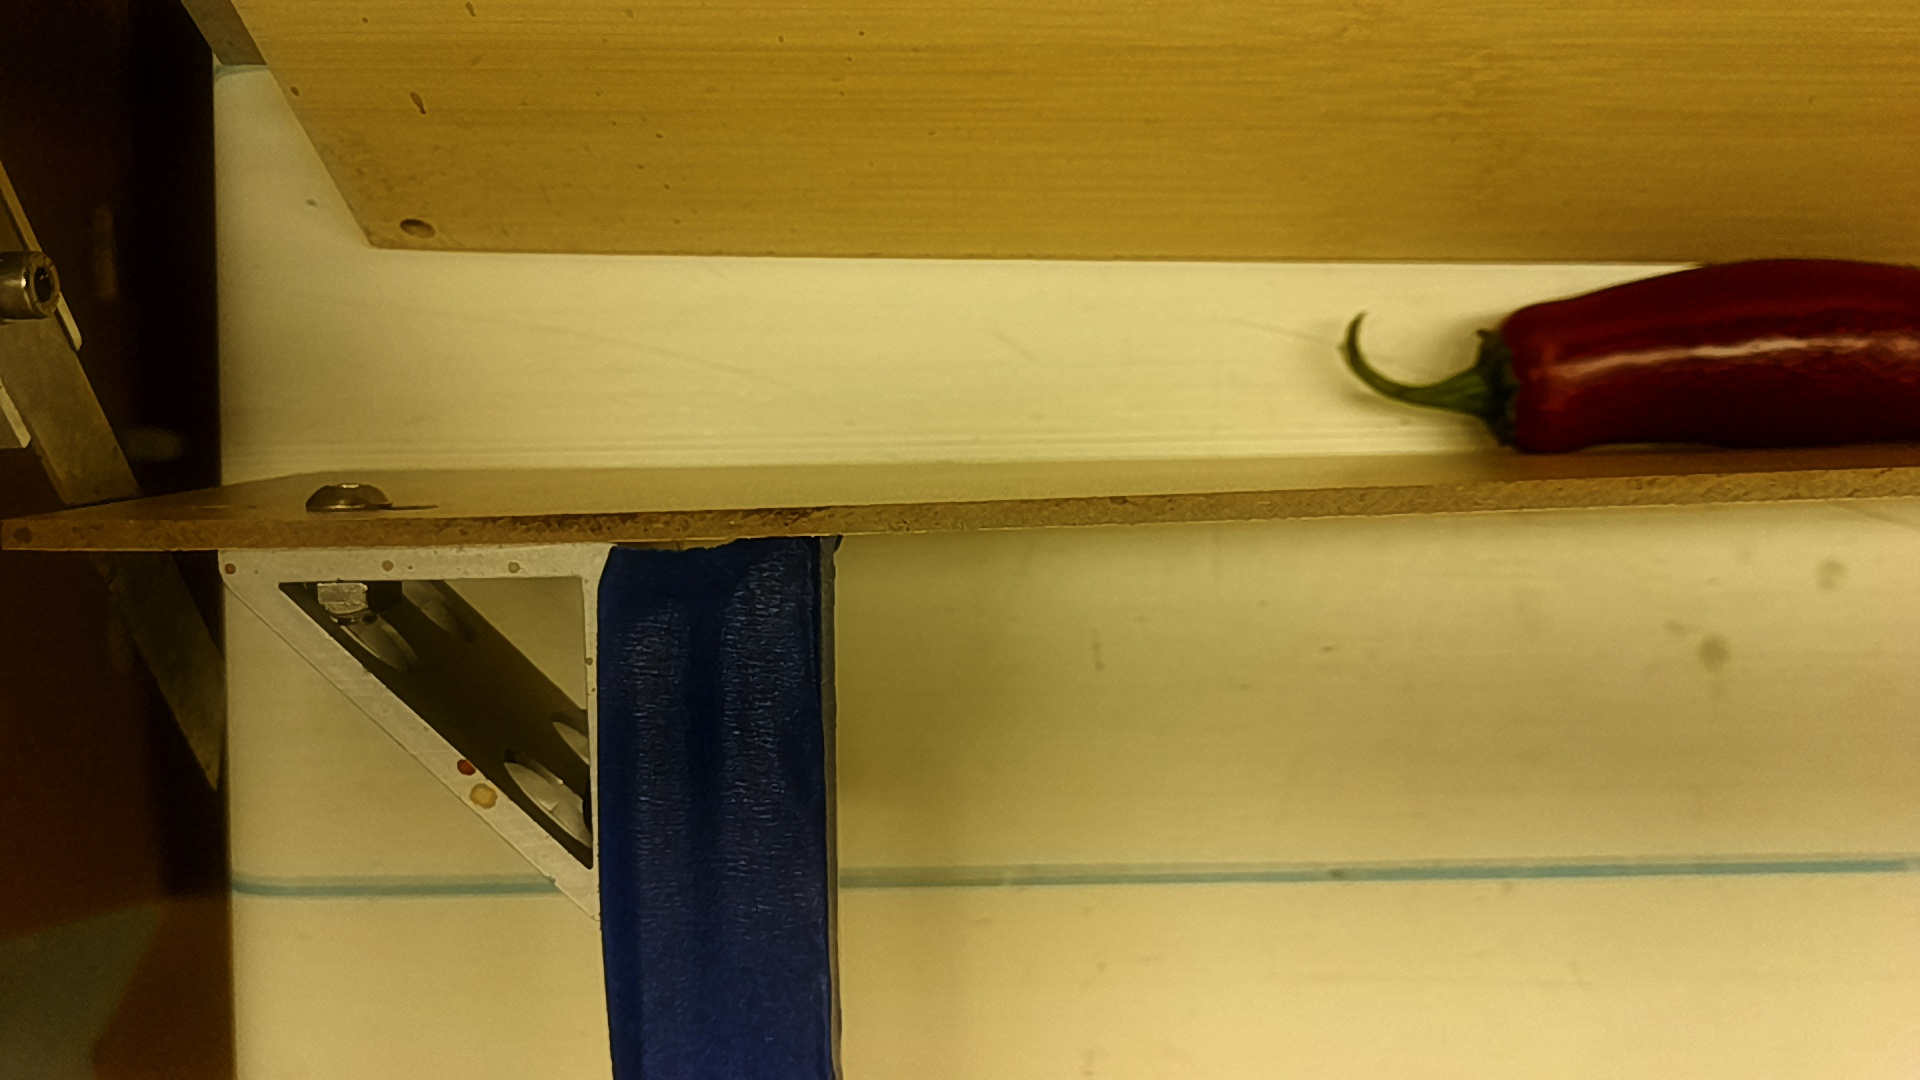Cut Point: (1466, 301, 1548, 463)
